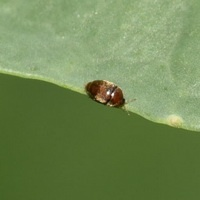insect: (85, 80, 124, 106)
